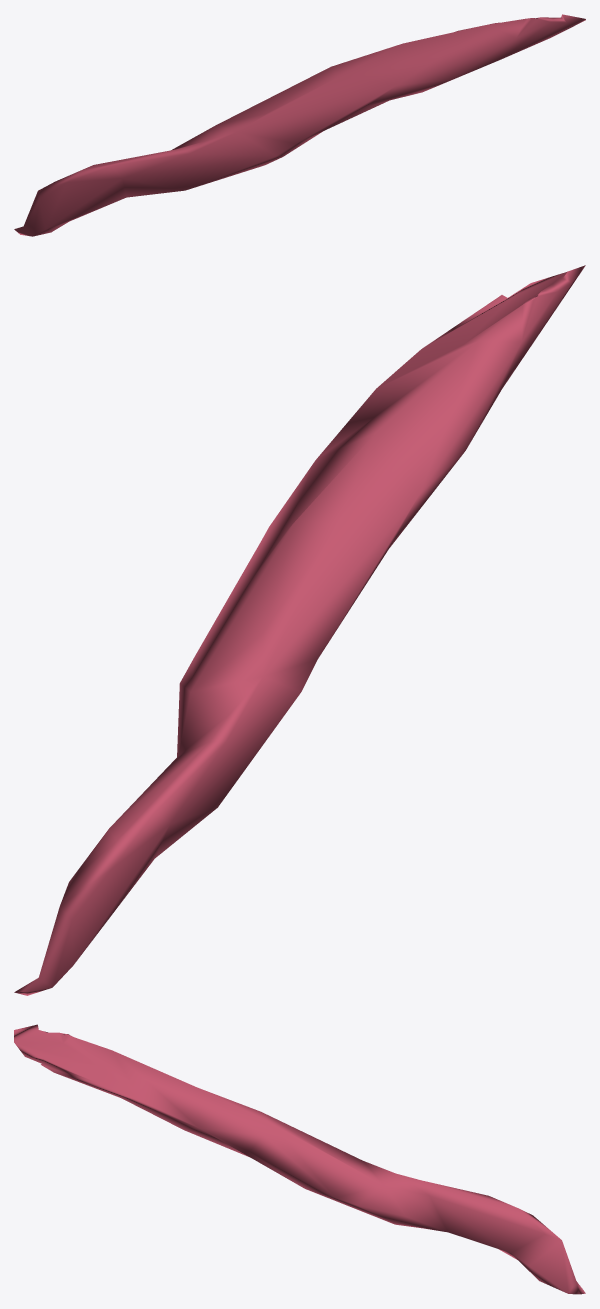
3 views of the same model, one above another, from view 1: azimuth 90°, elevation 25°; view 2: azimuth 150°, elevation 25°; view 3: azimuth 270°, elevation 25° (orthographic). The views are drawn at different scales.
Parts seen in each view (by area): view 1: 右侧骨间掌侧肌; view 2: 右侧骨间掌侧肌; view 3: 右侧骨间掌侧肌.
Part boxes in pixels (<box>): 右侧骨间掌侧肌: <box>14,14,585,236</box>; 右侧骨间掌侧肌: <box>14,265,585,995</box>; 右侧骨间掌侧肌: <box>14,1024,585,1294</box>.
Bounding box in the file's own units: 0.00833 × 0.0266 × 0.0563.
